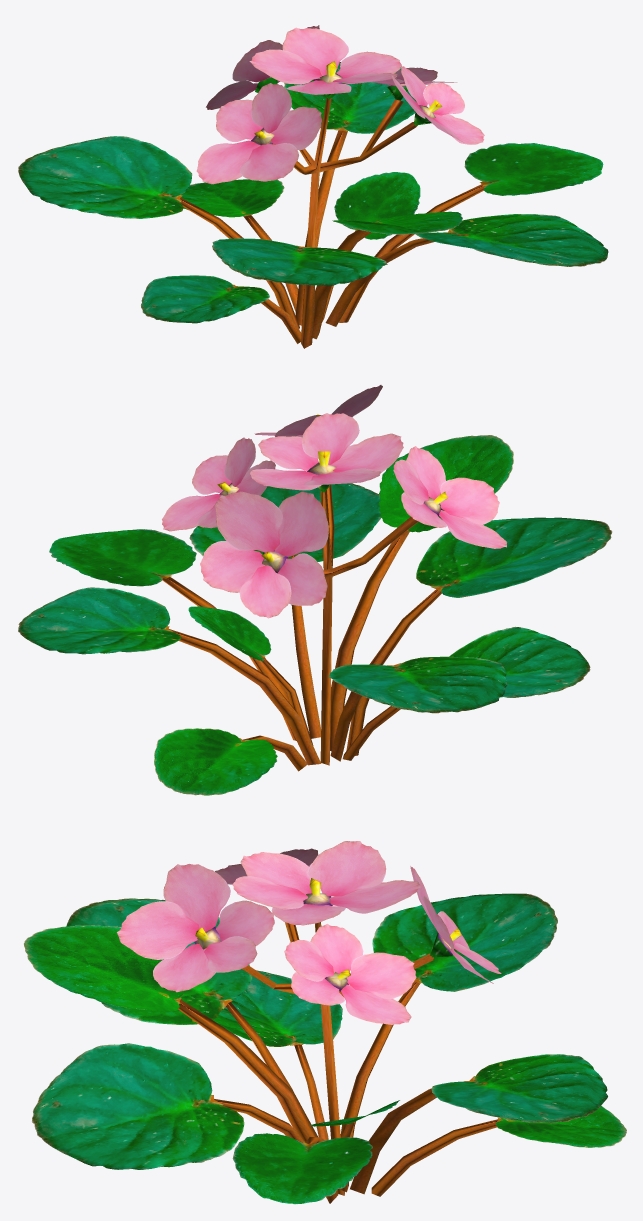
File: Saintpaulia3B.fbx
3 renders of one model, top to bottom at view 1: azimuth 30°, elevation 25°; view 2: azimuth 150°, elevation 25°; view 3: azimuth 270°, elevation 25°, orthographic. The views are drawn at different scales.
Parts seen in each view (by area): view 1: Sainpaulia3B_LOD0; view 2: Sainpaulia3B_LOD0; view 3: Sainpaulia3B_LOD0.
Boxes of the visible parts, x1,y1,x2,y2 form: Sainpaulia3B_LOD0: [18, 25, 608, 348]; Sainpaulia3B_LOD0: [18, 385, 612, 795]; Sainpaulia3B_LOD0: [24, 841, 626, 1204].
Size of what is drawn, in the model's own units: 62.9 by 36 by 56.95.
